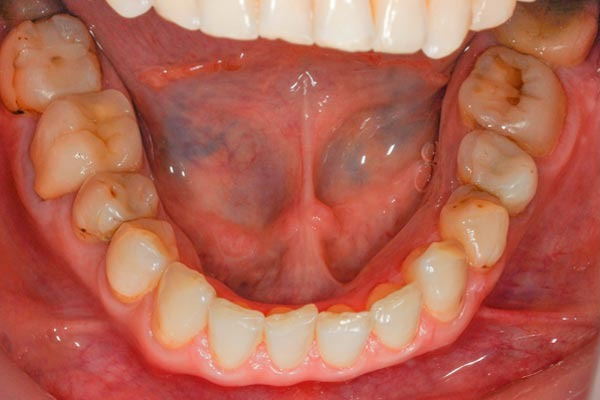LL1BC_decay: (443, 184, 510, 268)
LL1M_decay: (462, 51, 566, 151)
LL2BC_decay: (455, 127, 538, 206)
LL2M_decay: (513, 1, 595, 60)
LLCI_healthy: (317, 307, 371, 367)
LLC_healthy: (415, 238, 469, 322)
LLLI_healthy: (370, 281, 423, 349)
LR1BC_decay: (102, 217, 171, 302)
LR1M_decay: (33, 93, 137, 181)
LR2BC_decay: (71, 175, 158, 229)
LR2M_decay: (10, 17, 101, 95)
LRCI_healthy: (264, 300, 317, 371)
LRC_healthy: (147, 267, 214, 341)
LRLI_healthy: (208, 292, 262, 373)
